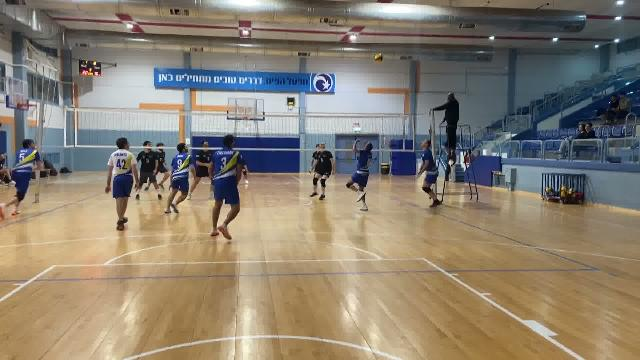ball: (371, 51, 386, 65)
